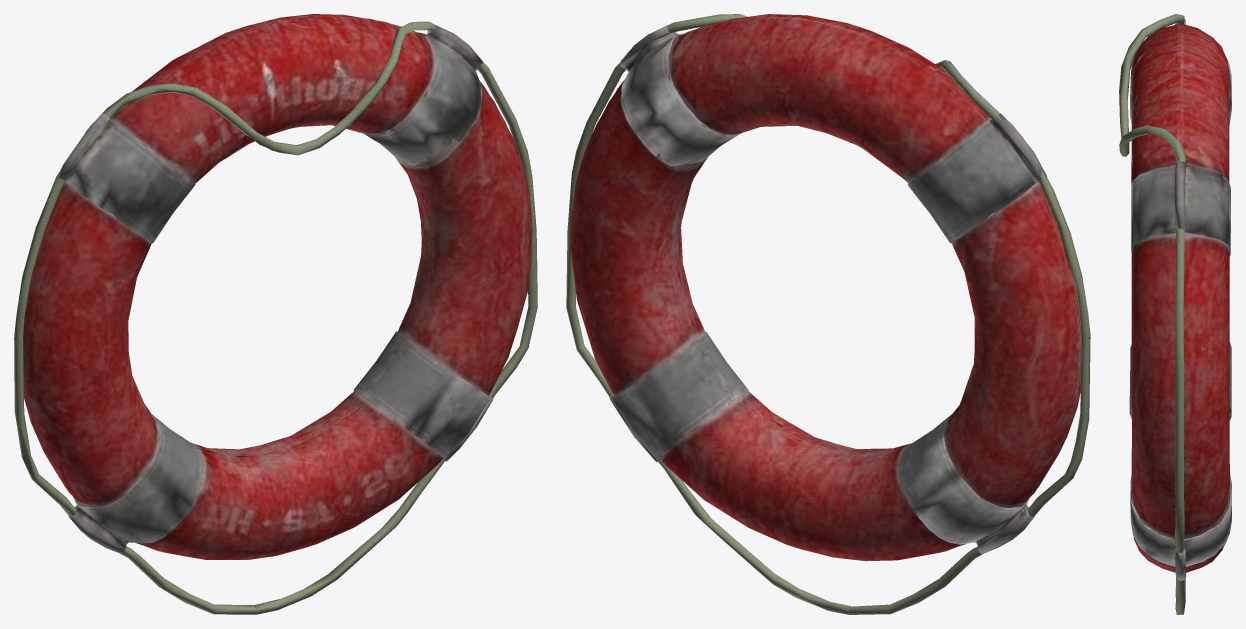
Rendered from ph_lifebuoy.glb.
3 renders of one model, left to right at view 1: azimuth 30°, elevation 25°; view 2: azimuth 150°, elevation 25°; view 3: azimuth 270°, elevation 25°, orthographic. The views are drawn at different scales.
Visible parts, largest first — view 1: lifebuoy; view 2: lifebuoy; view 3: lifebuoy.
Boxes of the visible parts, <box> form: lifebuoy: <box>14,14,537,614</box>; lifebuoy: <box>566,14,1090,614</box>; lifebuoy: <box>1119,14,1231,614</box>.
Size of the model in its own units: 0.783 by 0.8405 by 0.1553.
1 material, 1 textured.
